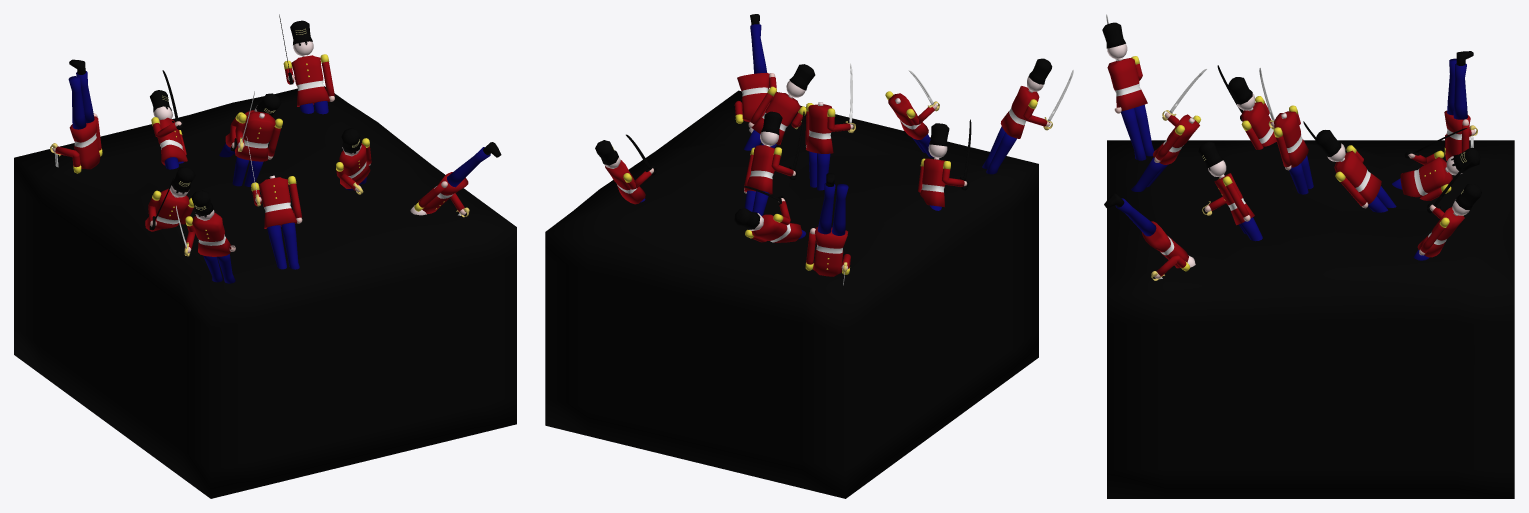
The model's file is Toy_solider_Heap.fbx.
3 views of the same model, side by side, from view 1: azimuth 30°, elevation 25°; view 2: azimuth 150°, elevation 25°; view 3: azimuth 270°, elevation 25° (orthographic). The views are drawn at different scales.
Parts seen in each view (by area): view 1: 큐브.001; view 2: 큐브.001; view 3: 큐브.001.
Part boxes in pixels (box(x1,y1,x2,y2)): 큐브.001: box(14, 14, 516, 498); 큐브.001: box(545, 14, 1073, 498); 큐브.001: box(1102, 14, 1514, 498).
Size of the model in its own units: 7.71 by 6.99 by 7.76.
